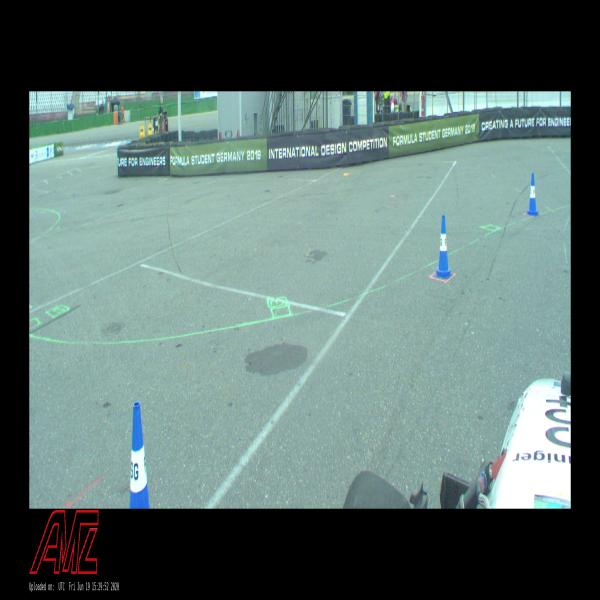blue_cone: (130, 401, 150, 509), (434, 215, 452, 279), (527, 173, 538, 214)
